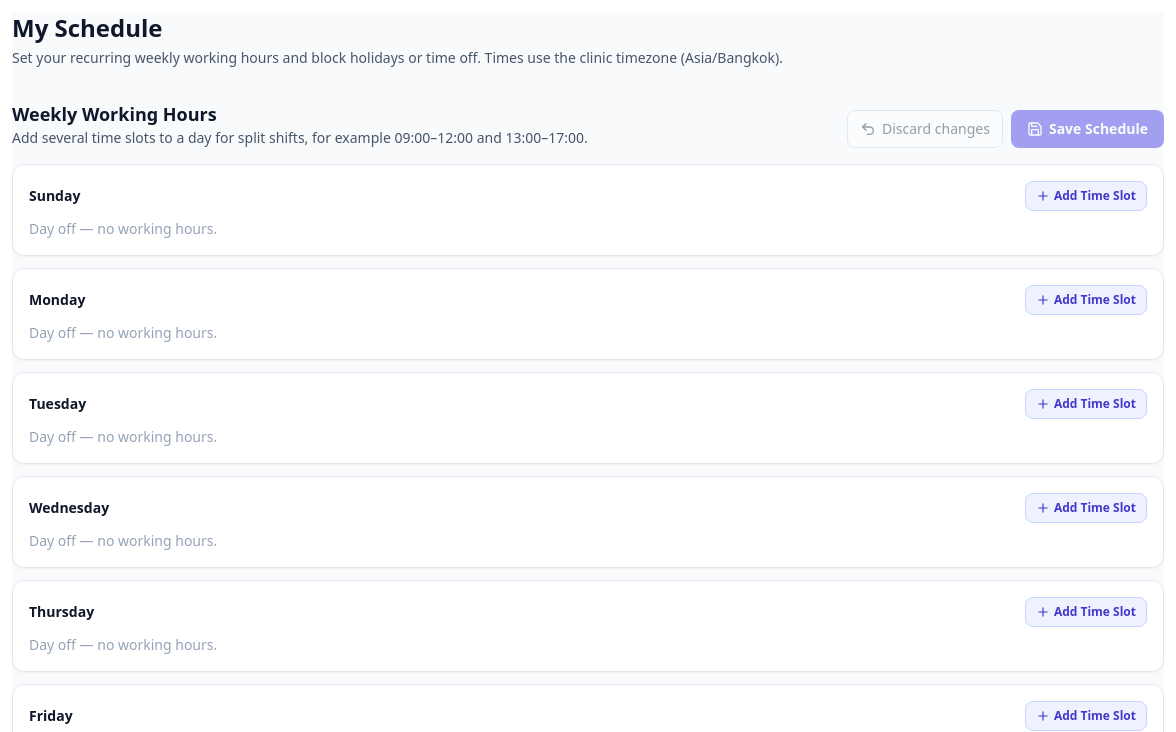
Test: Weekly Recurring Schedule Editor (/doctor/schedule) › an inverted window (14:00–10:00) is flagged inline and NOT sent (AC-F006-02)
Click the button with aria-label "Add time slot for Tuesday" at (1086, 404), box [1025,389,1147,419]
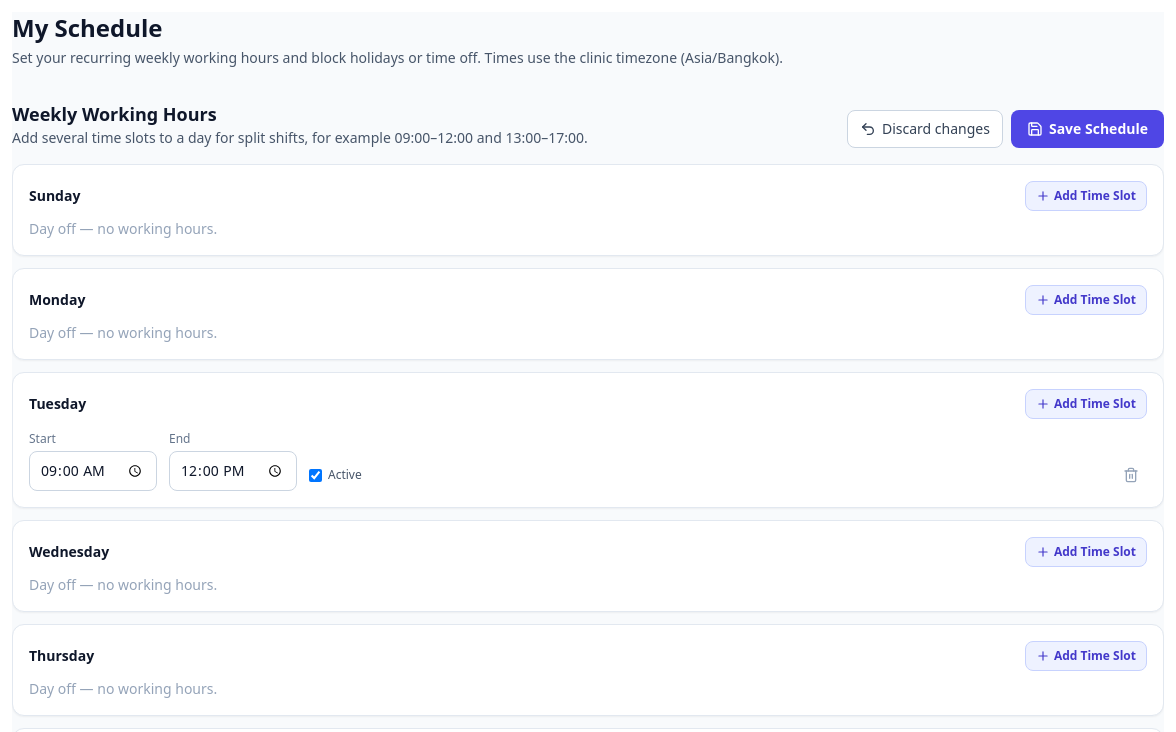
Replace the text in the time field named "Tuesday slot 1 start time" with "14:00" at (93, 471), box [29,451,157,491]
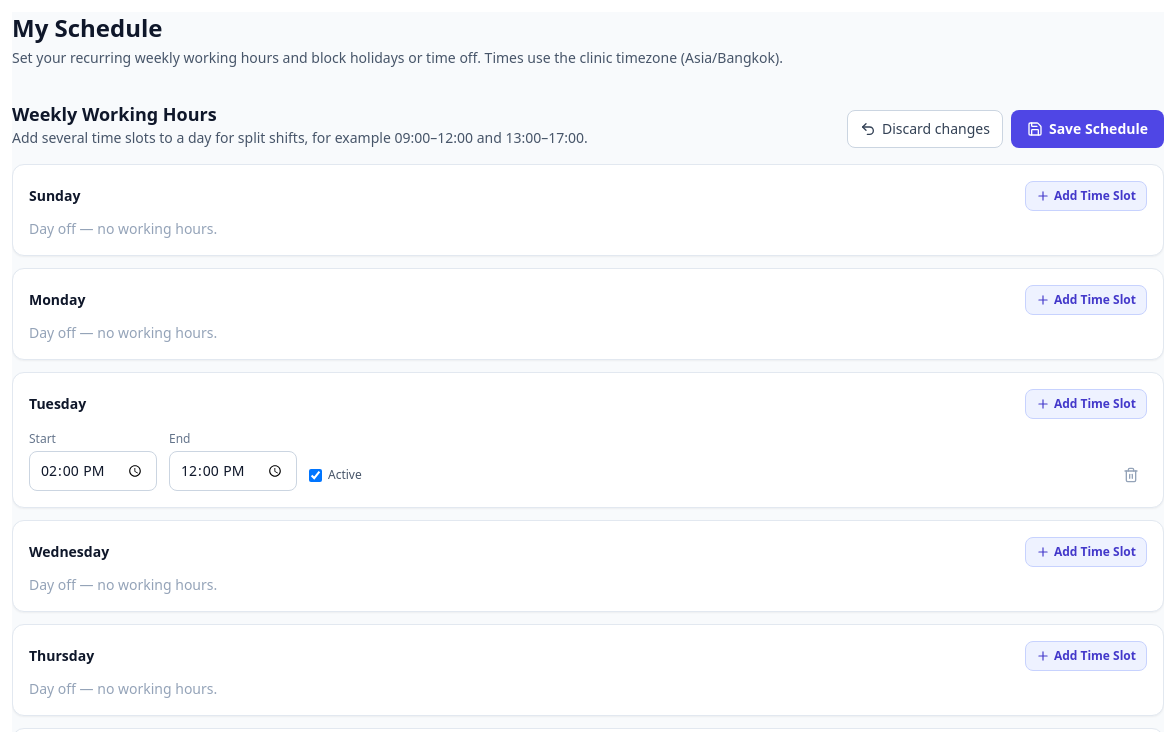
Replace the text in the time field named "Tuesday slot 1 end time" with "10:00" at (233, 471), box [169,451,297,491]
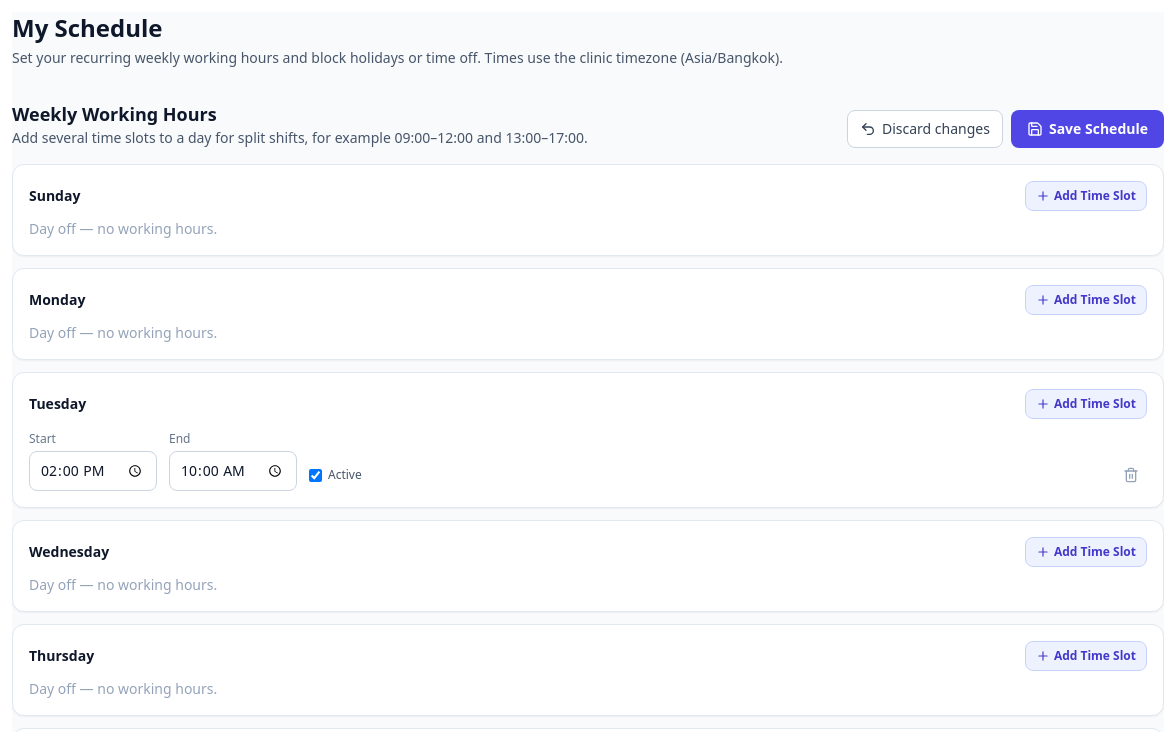
Click the button "Save Schedule" at (1088, 129), box [1011,110,1164,148]
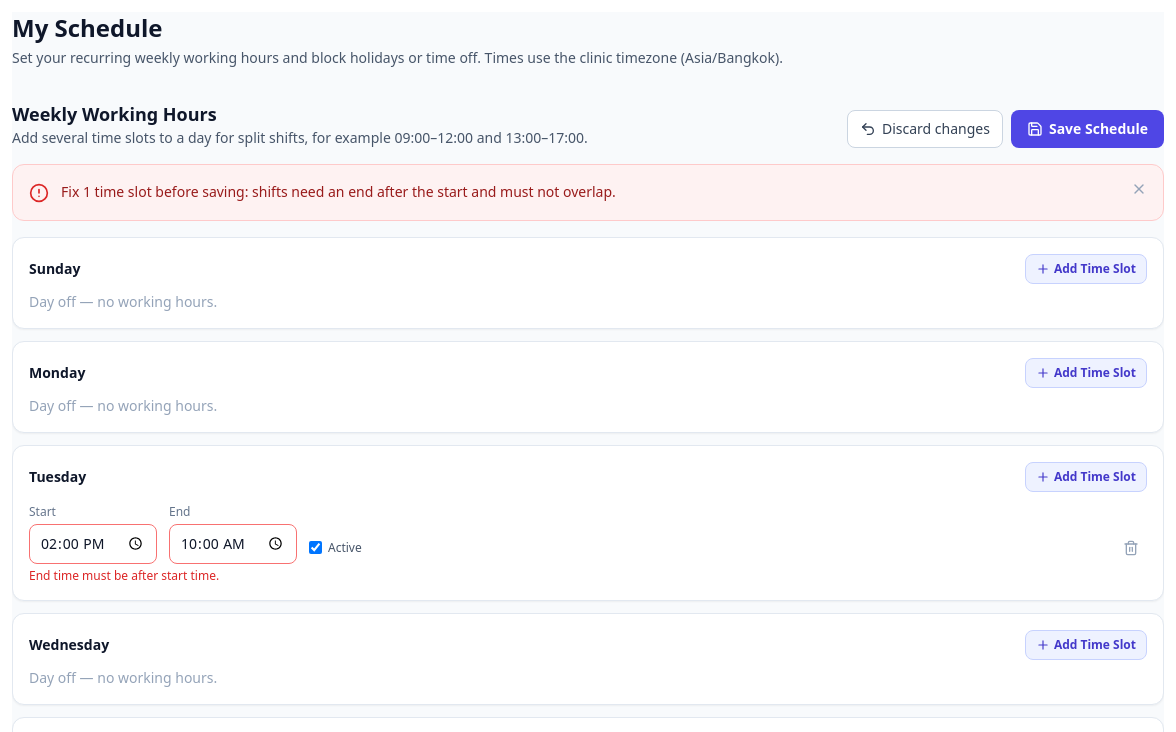
Check: the text "End time must be after start time." is shown, box [29,567,219,584]
